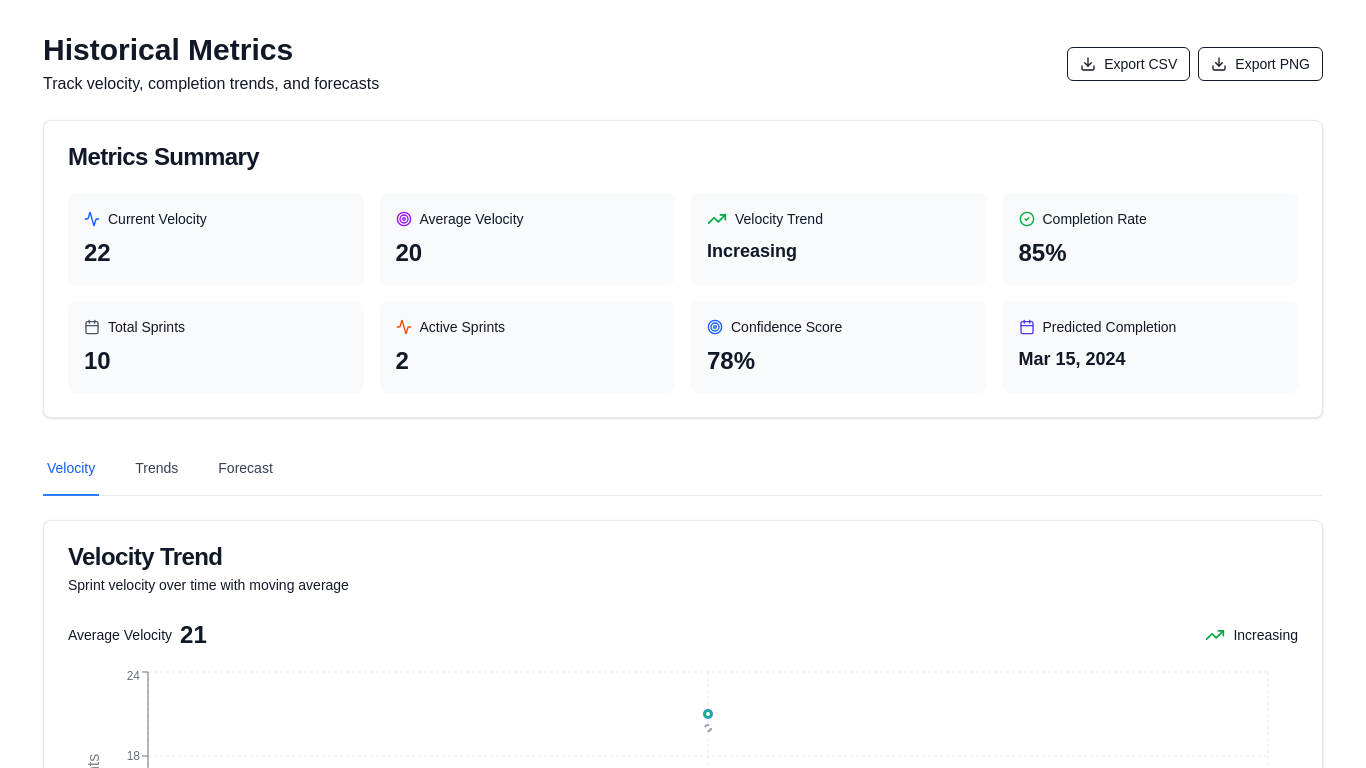
Scenario: MetricsPage Component › switches between tabs on click
Expected: the tab "Velocity" is shown, [43, 442, 99, 496]
Note: Click on Trends tab
Click the tab "Trends": (157, 469) [131, 442, 182, 496]
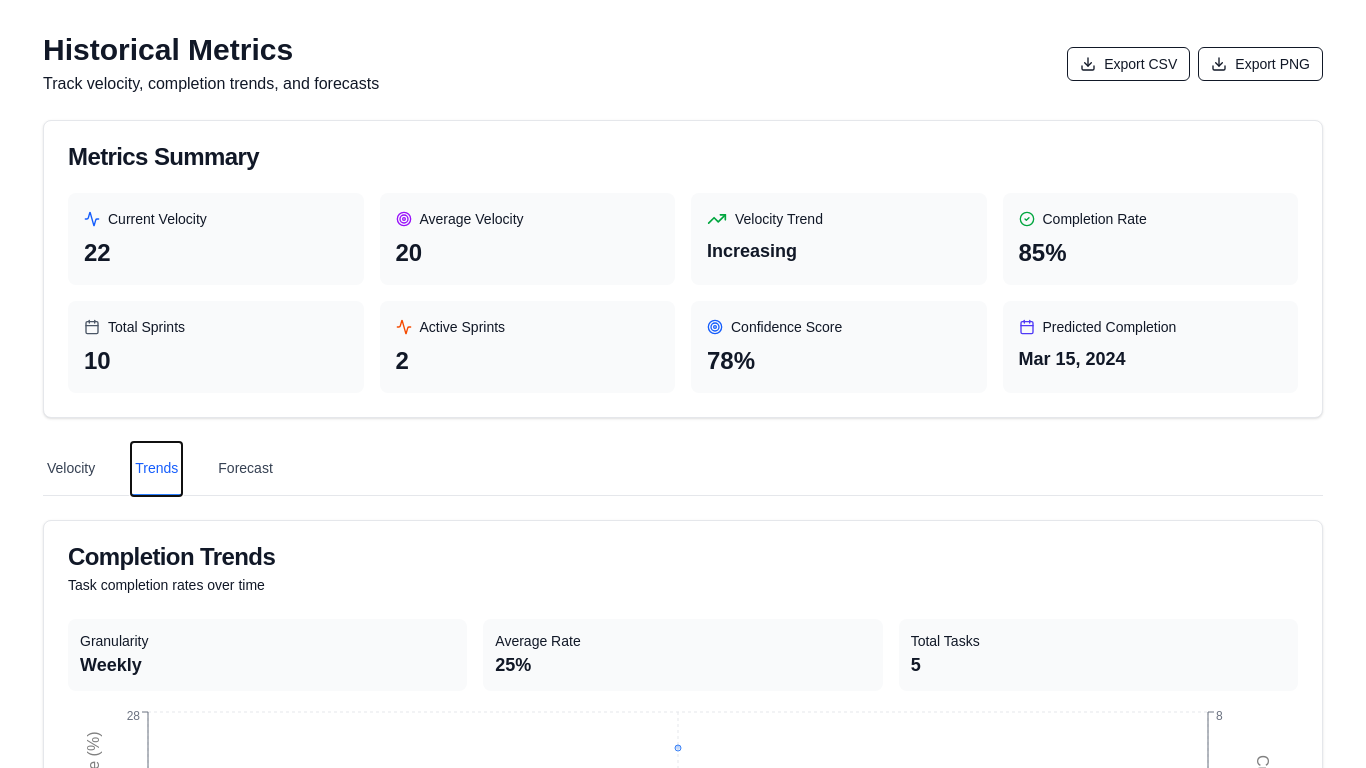
Now the text "Completion Trends" is shown, box [68, 543, 275, 570]
